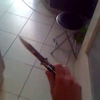knife: (18, 36, 55, 73)
